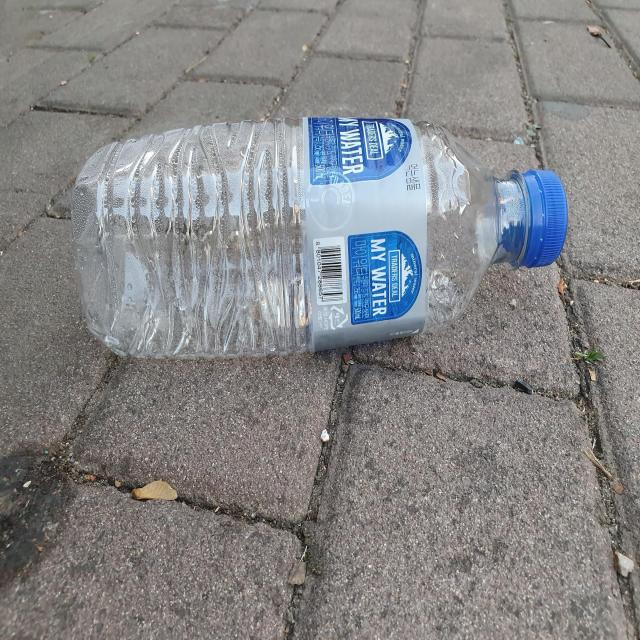plastic: (71, 116, 568, 358)
